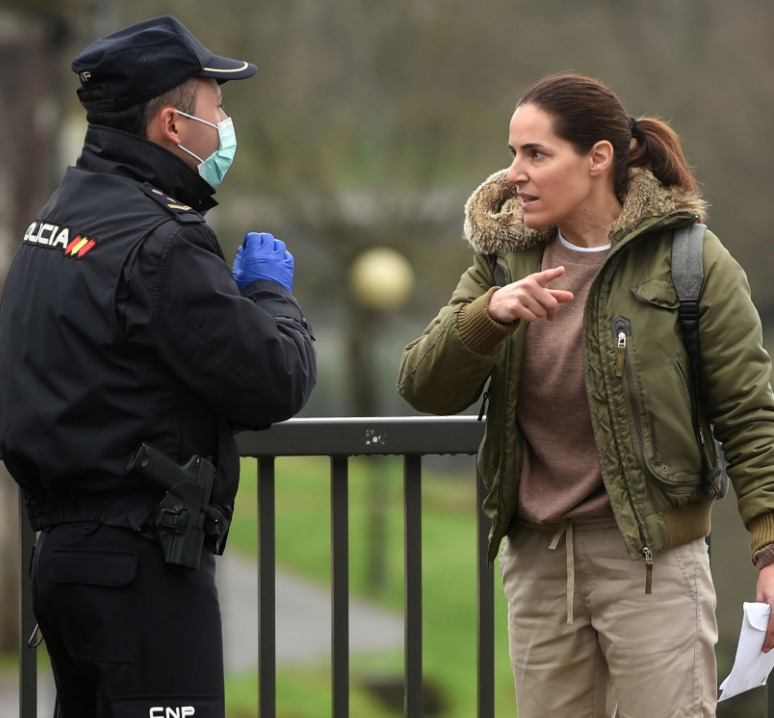Caution: (6, 14, 722, 713)
